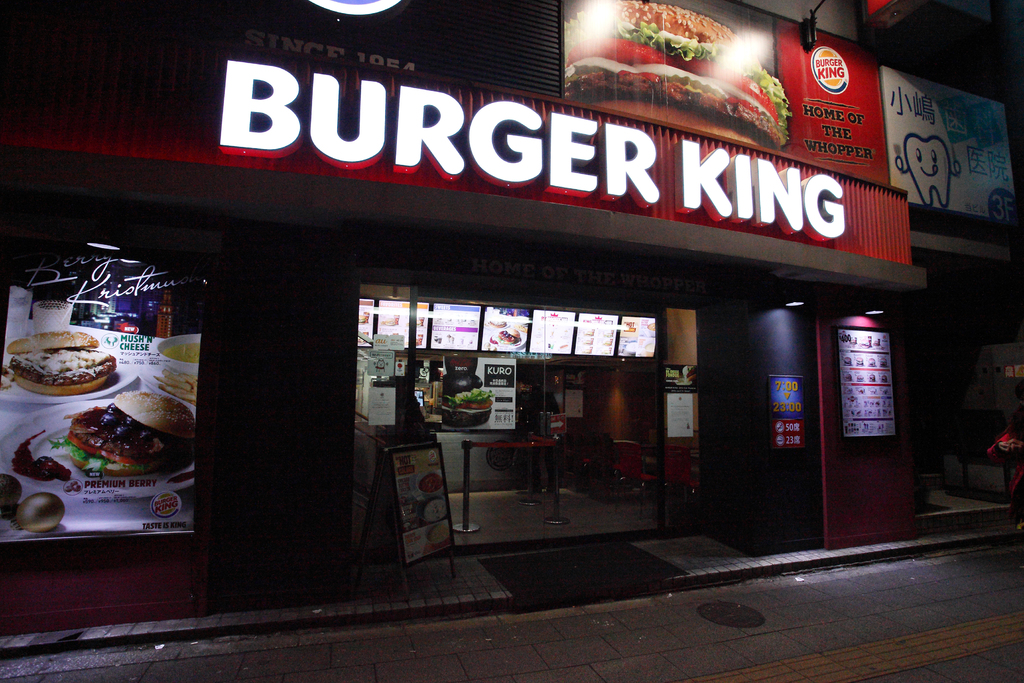Hamburger: (565, 3, 792, 144), (49, 392, 195, 473), (4, 330, 117, 396), (444, 371, 497, 426)
